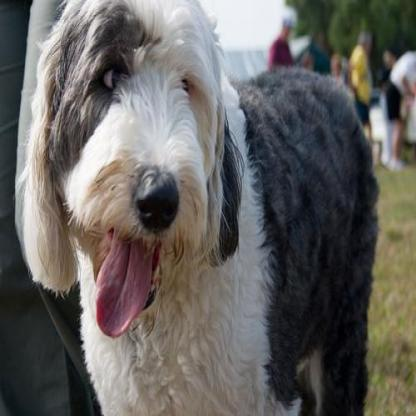Old_English_sheepdog: (13, 0, 414, 414)
